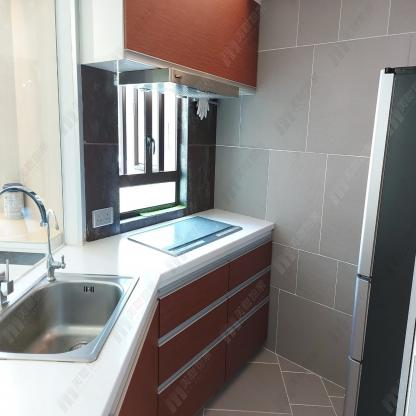Cupboard: (117, 231, 275, 415), (122, 1, 259, 93)
Exhaust Hood: (120, 67, 241, 99)
Faucet: (40, 204, 65, 282)
Fridge: (345, 67, 415, 415)
Sink: (1, 268, 139, 361)
Stove: (128, 217, 242, 260)
